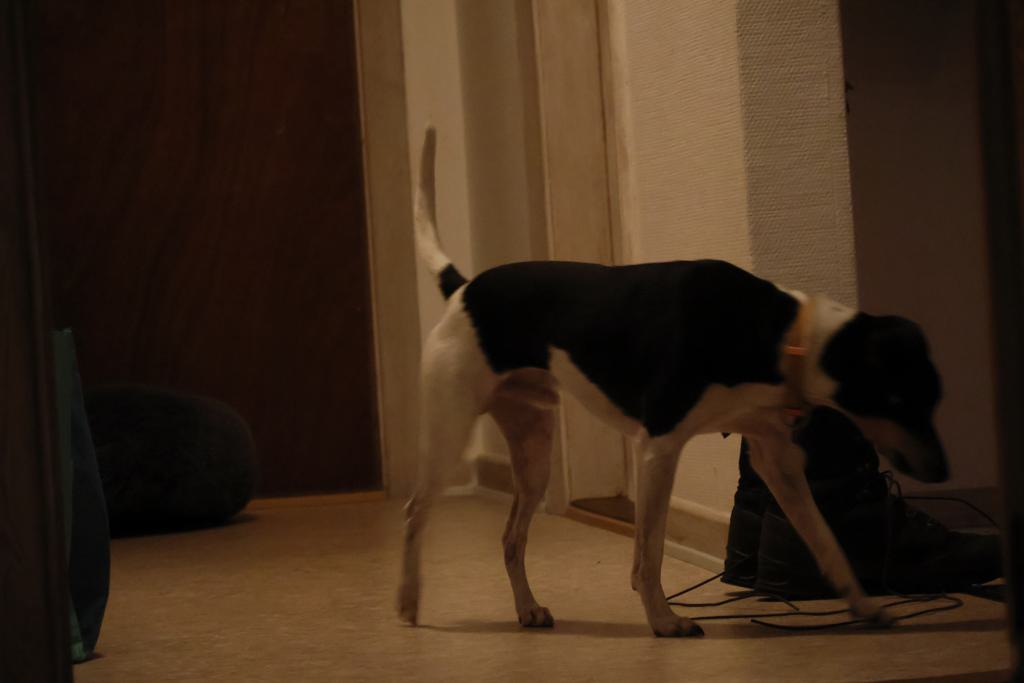Dog: (379, 98, 961, 655)
